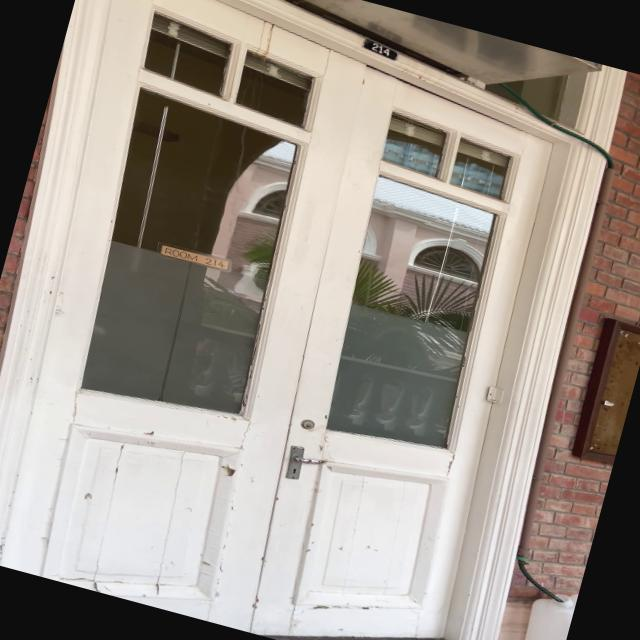room214: (357, 34, 402, 62)
room214Window: (152, 238, 244, 276)
